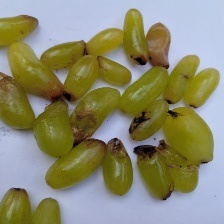grapes: (25, 10, 166, 205)
